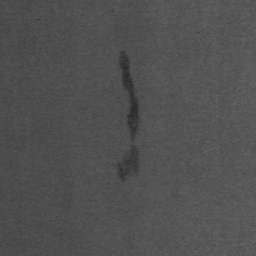Iron scale compression: (119, 51, 140, 183)
